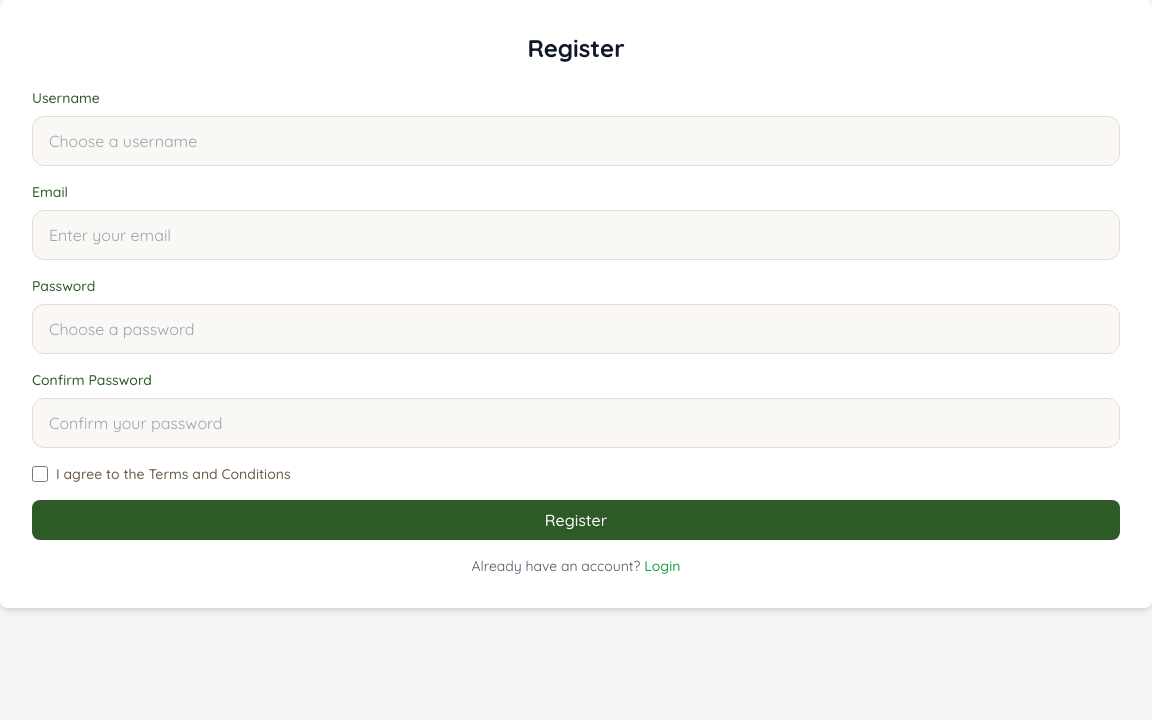
Test: RegisterForm Component › should show error when passwords do not match
The width and height of the screenshot is (1152, 720).
Type "password123" into the password field labelled "Password". click: (576, 329)
box: [32,304,1120,354]
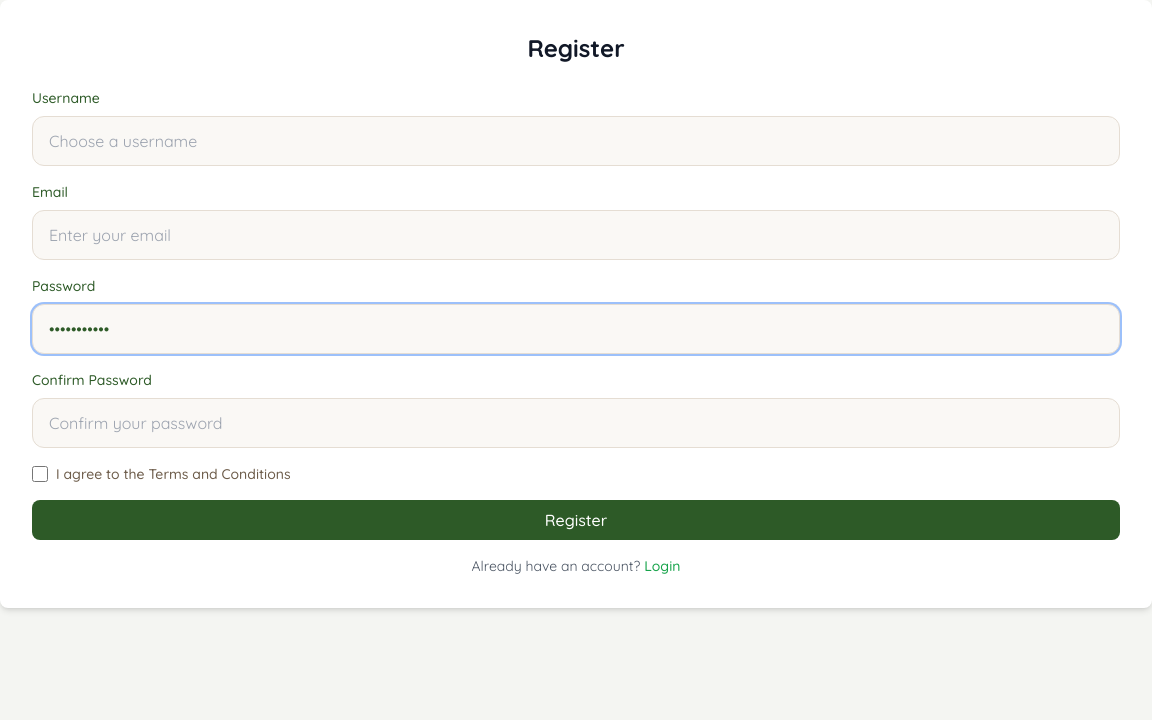
Type "different" into the password field labelled "Confirm Password". click: (576, 423)
box: [32,398,1120,448]
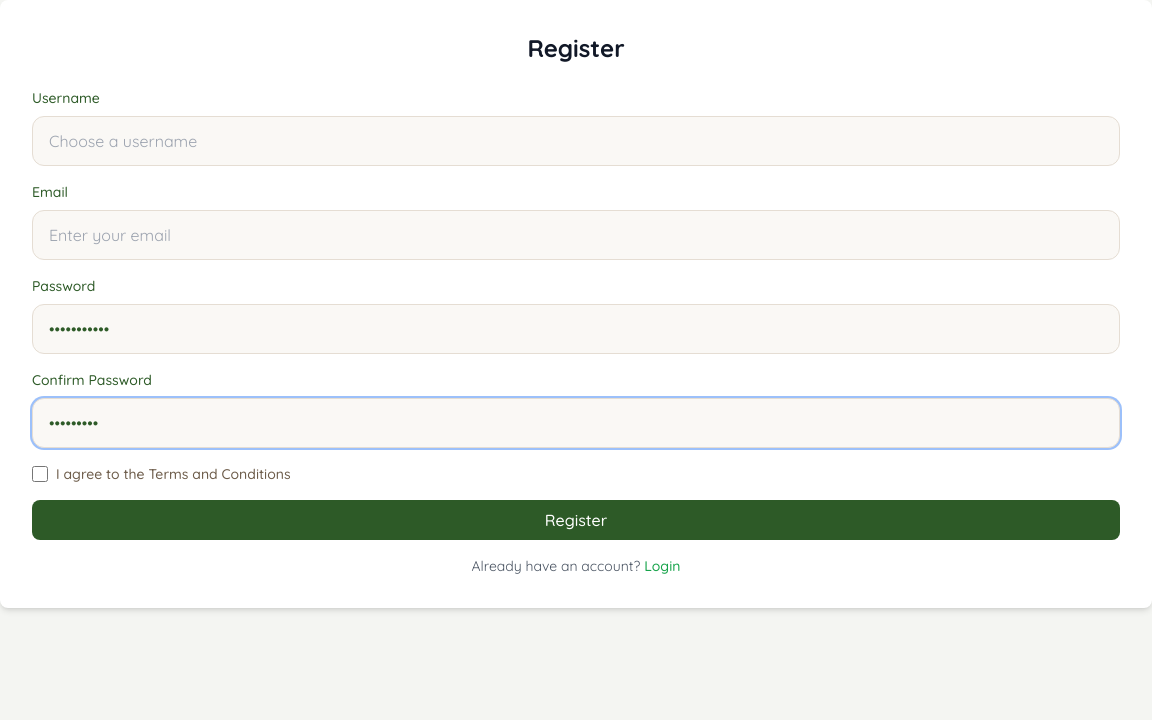
Click the checkbox. click: (40, 474)
box: [32,466,48,482]
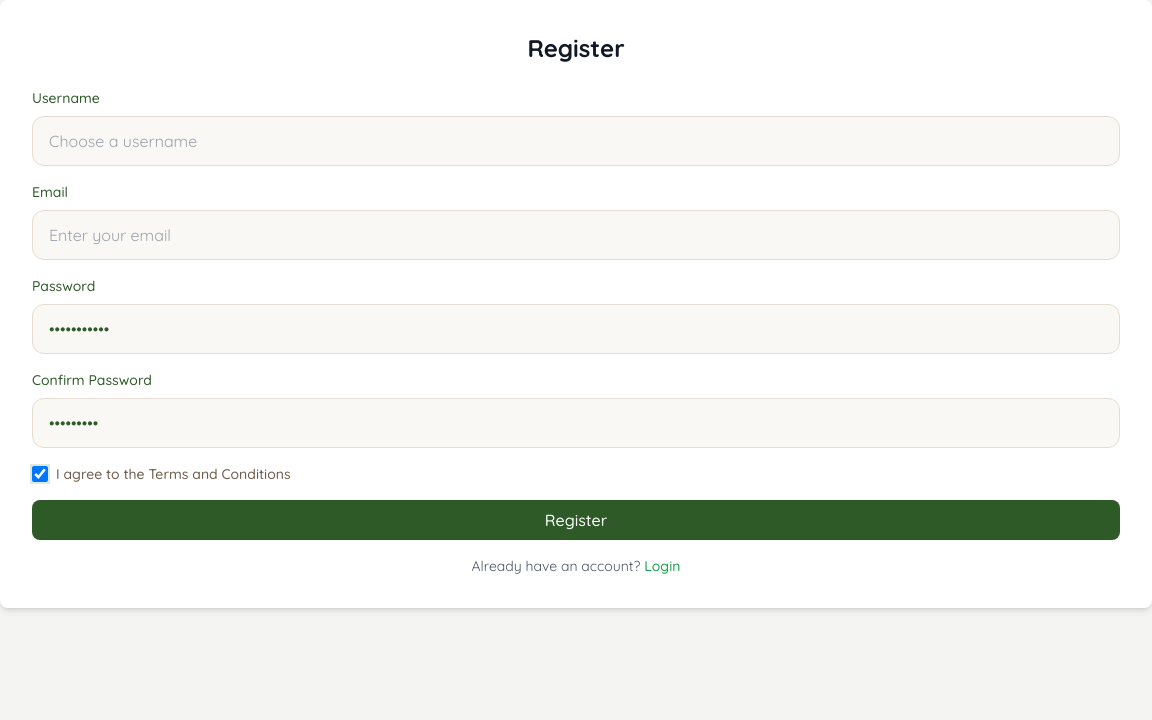
Click the button "Register". click: (576, 520)
box: [32,500,1120,540]
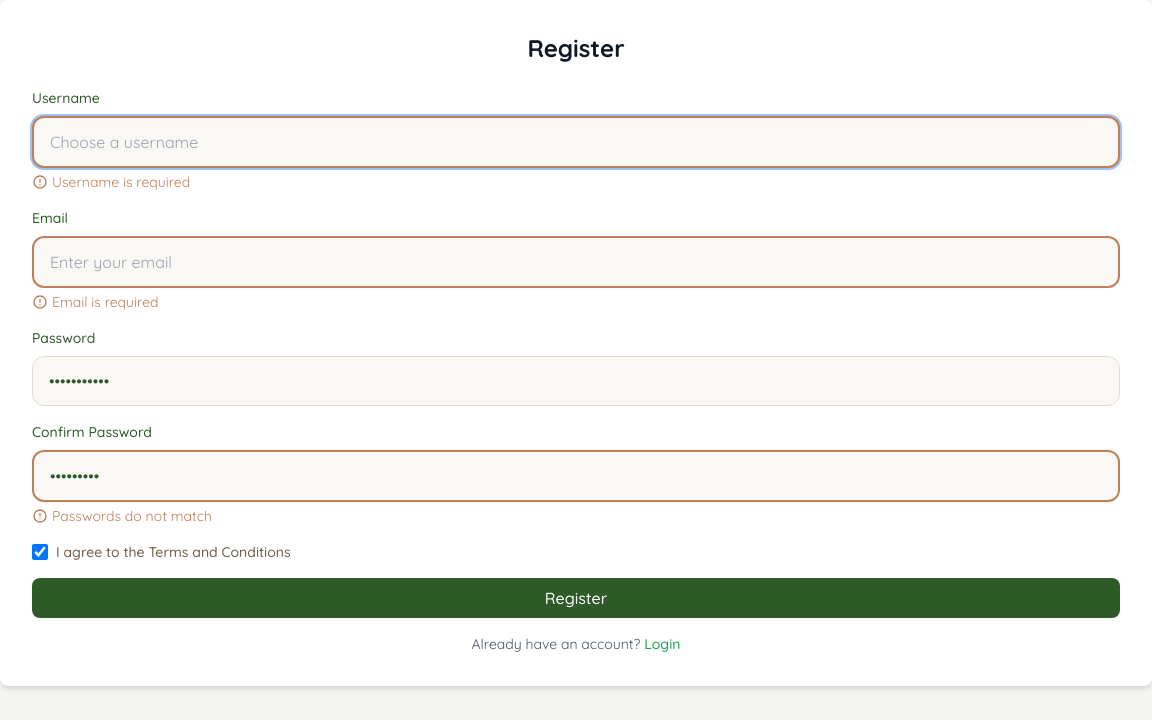
Now the text "Passwords do not match" is shown, box [32,507,212,525]
